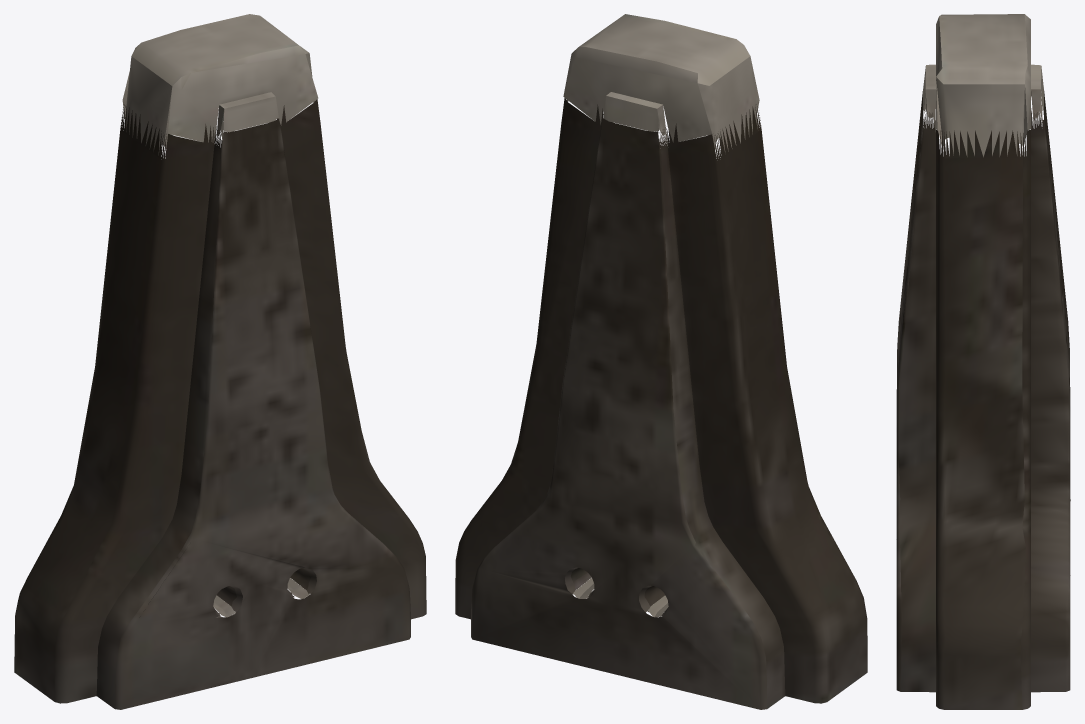
Rendered from stone-wall.glb.
3 renders of one model, left to right at view 1: azimuth 30°, elevation 25°; view 2: azimuth 150°, elevation 25°; view 3: azimuth 270°, elevation 25°, orthographic. The views are drawn at different scales.
Parts seen in each view (by area): view 1: body; view 2: body; view 3: body.
Boxes of the visible parts, x1,y1,x2,y2 form: body: (14,14,426,709); body: (455,14,867,709); body: (896,14,1070,709).
Bounding box in the file's own units: 0.8528 × 1.32 × 0.3561.
Materials: 1 (1 with a texture image).
